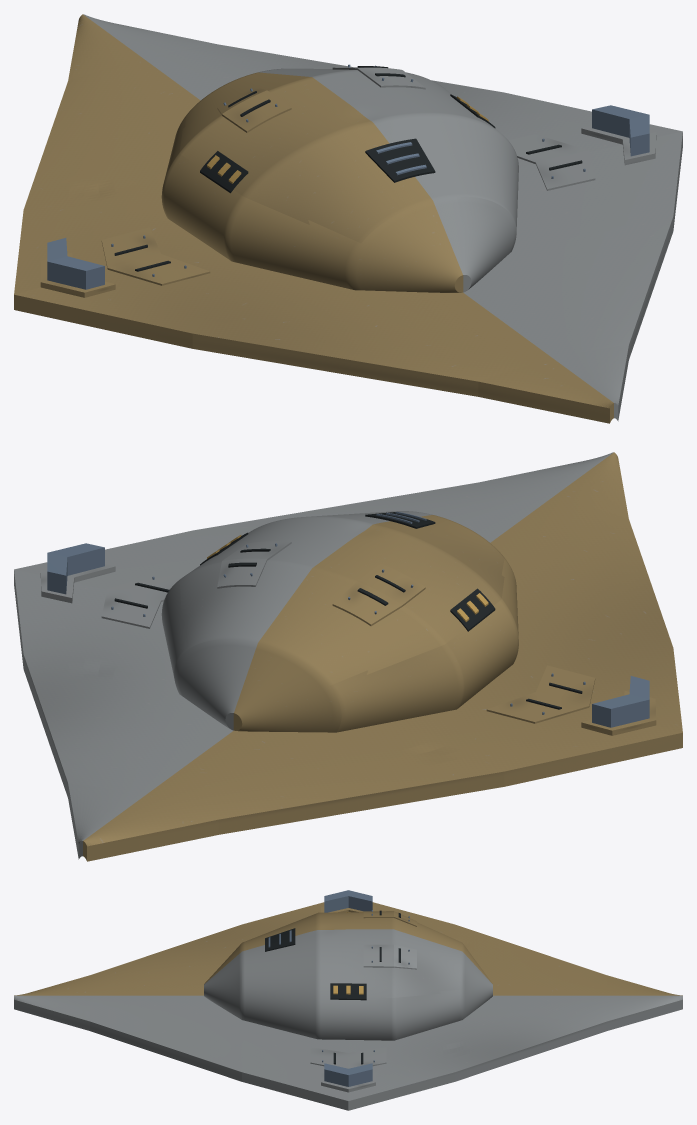
3 renders of one model, top to bottom at view 1: azimuth 30°, elevation 25°; view 2: azimuth 150°, elevation 25°; view 3: azimuth 270°, elevation 25°, orthographic. The views are drawn at different scales.
Visible parts, largest first — view 1: Shielded Multi broad metal wing, Shielded Multi central pressure body, Shielded Multi service cover 2, Shielded Multi service cover 3, Shielded Multi blue grey fitting -1, Shielded Multi blue grey fitting 1, Shielded Multi service cover 0, Shielded Multi forward service inset, Shielded Multi service cover 1, Shielded Multi fitting saddle 1, Shielded Multi side dark inset -1, Shielded Multi fitting saddle -1; view 2: Shielded Multi broad metal wing, Shielded Multi central pressure body, Shielded Multi service cover 2, Shielded Multi service cover 0, Shielded Multi service cover 3, Shielded Multi blue grey fitting -1, Shielded Multi service cover 1, Shielded Multi blue grey fitting 1, Shielded Multi fitting saddle 1, Shielded Multi fitting saddle -1, Shielded Multi side dark inset -1; view 3: Shielded Multi broad metal wing, Shielded Multi central pressure body, Shielded Multi service cover 3, Shielded Multi service cover 1, Shielded Multi blue grey fitting 1, Shielded Multi blue grey fitting -1, Shielded Multi side dark inset 1, Shielded Multi forward service inset, Shielded Multi fitting saddle 1, Shielded Multi service cover 0.
Part boxes in pixels (left/top/right/bottom): Shielded Multi broad metal wing: left=14, top=14, right=682, bottom=423; Shielded Multi central pressure body: left=161, top=68, right=518, bottom=292; Shielded Multi service cover 2: left=101, top=227, right=210, bottom=285; Shielded Multi service cover 3: left=508, top=134, right=595, bottom=190; Shielded Multi blue grey fitting -1: left=47, top=238, right=104, bottom=289; Shielded Multi blue grey fitting 1: left=592, top=105, right=649, bottom=156; Shielded Multi service cover 0: left=217, top=86, right=291, bottom=132; Shielded Multi forward service inset: left=365, top=138, right=435, bottom=182; Shielded Multi service cover 1: left=332, top=67, right=425, bottom=89; Shielded Multi fitting saddle 1: left=581, top=126, right=656, bottom=165; Shielded Multi side dark inset -1: left=200, top=151, right=248, bottom=193; Shielded Multi fitting saddle -1: left=40, top=252, right=115, bottom=297; Shielded Multi broad metal wing: left=14, top=452, right=682, bottom=861; Shielded Multi central pressure body: left=161, top=511, right=518, bottom=732; Shielded Multi service cover 2: left=486, top=665, right=595, bottom=723; Shielded Multi service cover 0: left=332, top=563, right=425, bottom=626; Shielded Multi service cover 3: left=101, top=572, right=182, bottom=628; Shielded Multi blue grey fitting -1: left=592, top=676, right=649, bottom=727; Shielded Multi service cover 1: left=217, top=541, right=291, bottom=588; Shielded Multi blue grey fitting 1: left=47, top=543, right=104, bottom=594; Shielded Multi fitting saddle 1: left=40, top=564, right=115, bottom=603; Shielded Multi fitting saddle -1: left=581, top=690, right=656, bottom=735; Shielded Multi side dark inset -1: left=450, top=588, right=495, bottom=631; Shielded Multi broad metal wing: left=14, top=902, right=682, bottom=1110; Shielded Multi central pressure body: left=204, top=912, right=492, bottom=1040; Shielded Multi service cover 3: left=310, top=1047, right=386, bottom=1068; Shielded Multi service cover 1: left=363, top=944, right=416, bottom=969; Shielded Multi blue grey fitting 1: left=324, top=1063, right=372, bottom=1086; Shielded Multi blue grey fitting -1: left=324, top=890, right=372, bottom=912; Shielded Multi side dark inset 1: left=330, top=983, right=366, bottom=1000; Shielded Multi forward service inset: left=265, top=928, right=295, bottom=951; Shielded Multi fitting saddle 1: left=321, top=1072, right=375, bottom=1092; Shielded Multi service cover 0: left=363, top=911, right=416, bottom=926.
Bounding box in the file's own units: 3.2 × 0.76 × 4.4.
5 materials, 2 textured.
